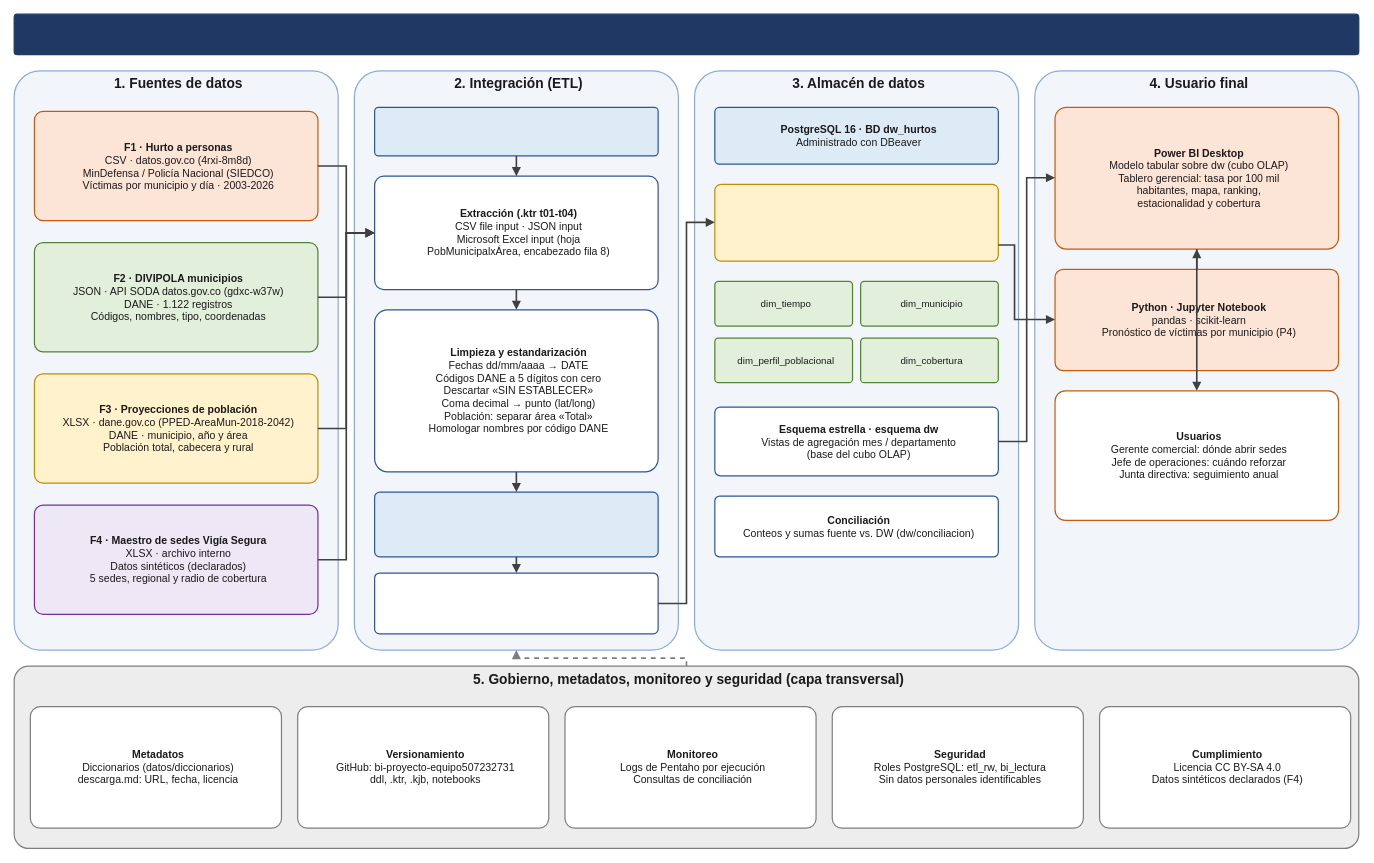
Some shapes in this 1374 by 863 pixel diagram are drawn without their labels. Here are the shapes that lost their labels. From the top down, the centre of each, then its label:
point (686, 34): Vigía Segura S.A.S. · Arquitectura de BI de cinco capas
point (516, 131): Pentaho Data Integration (Spoon) job_carga_completa.kjb
point (856, 222): fact_hurto_personas Grano: municipio × día ≈174.400 filas (2022-2025)
point (516, 524): Staging · PostgreSQL esquema stg (tablas espejo F1-F4)
point (516, 603): Carga dimensional (.ktr t05-t07) Dimensiones → tabla de hechos
